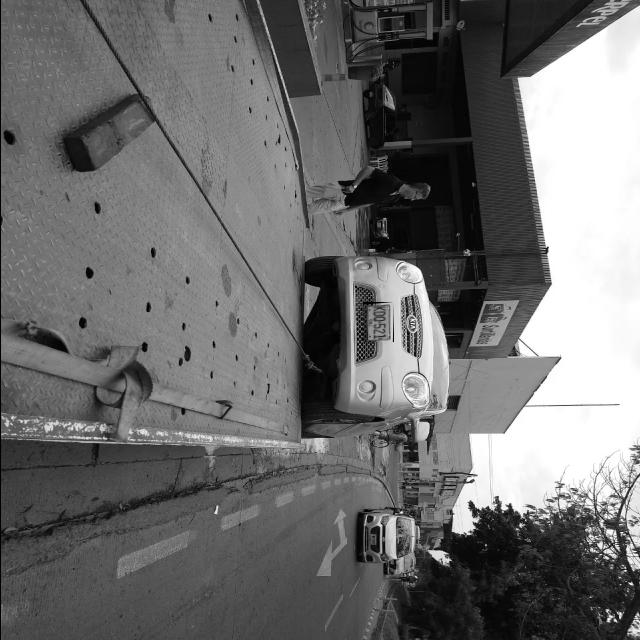plate: (362, 302, 393, 342)
